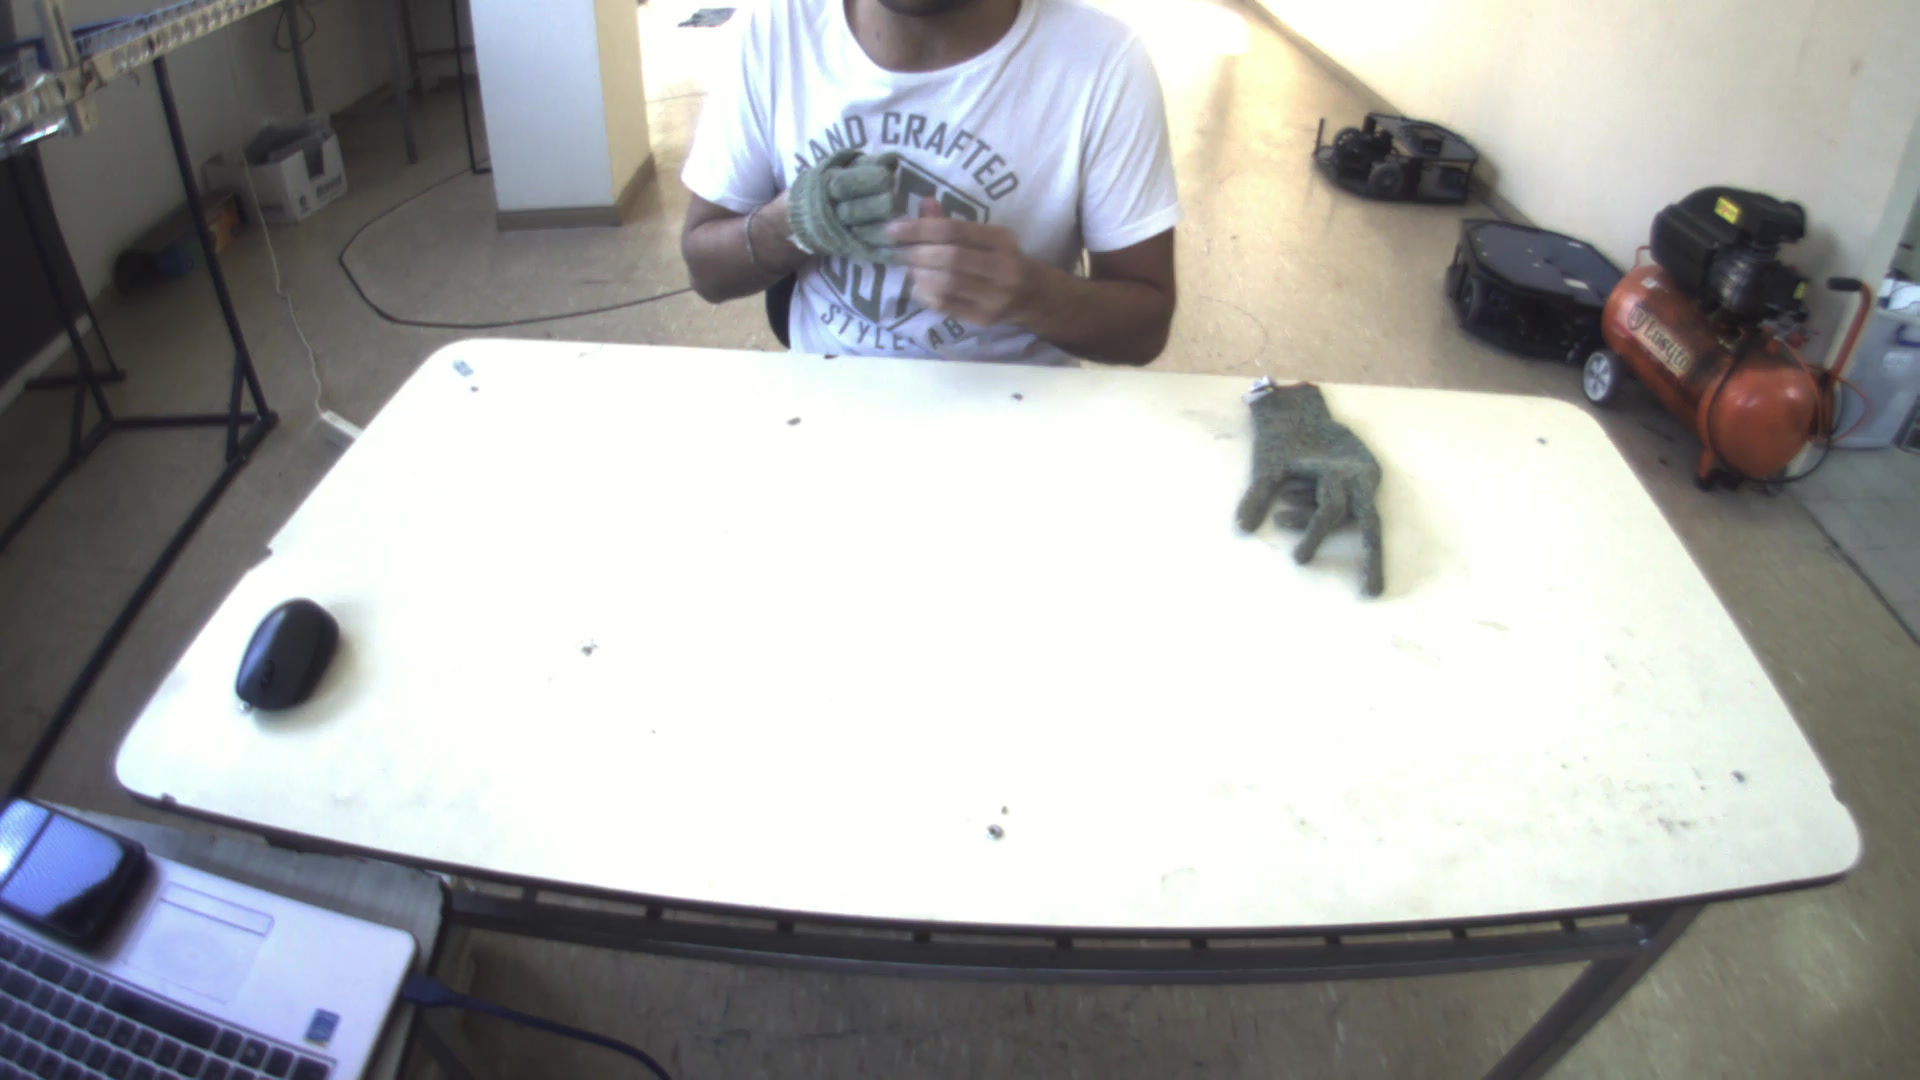hand: (872, 189, 1054, 331), (775, 136, 918, 258)
